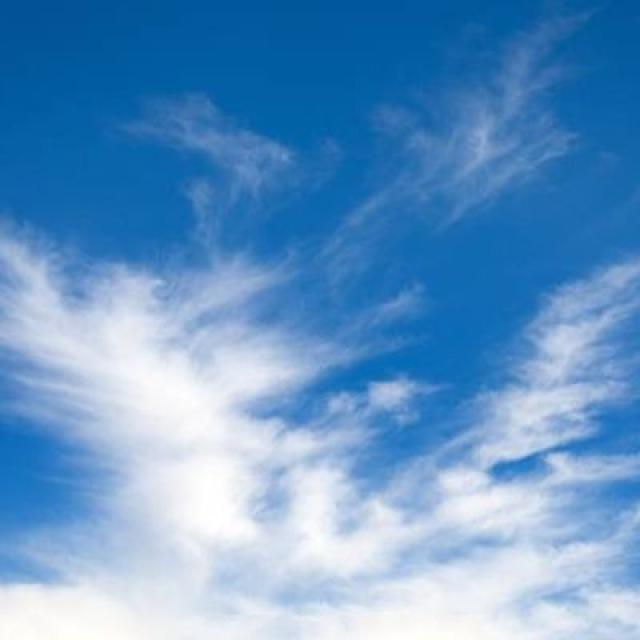Cs: (1, 205, 640, 640)
